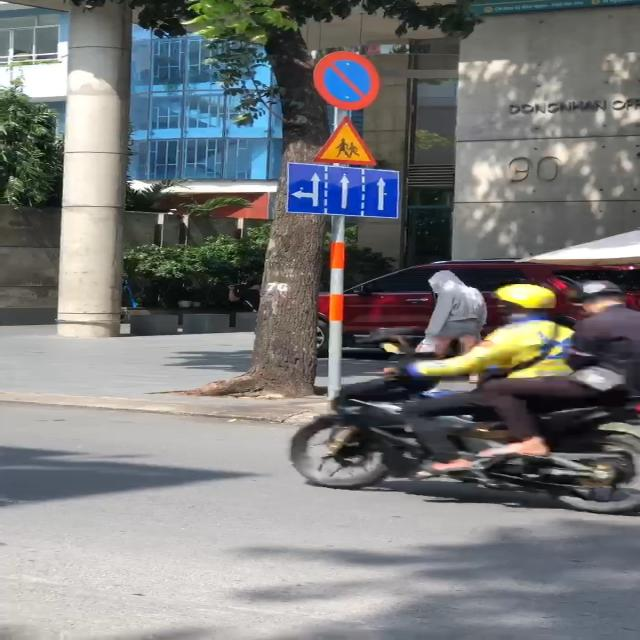Bien bao cam do xe: (306, 42, 386, 112)
Bien bao tre em: (310, 112, 388, 166)
